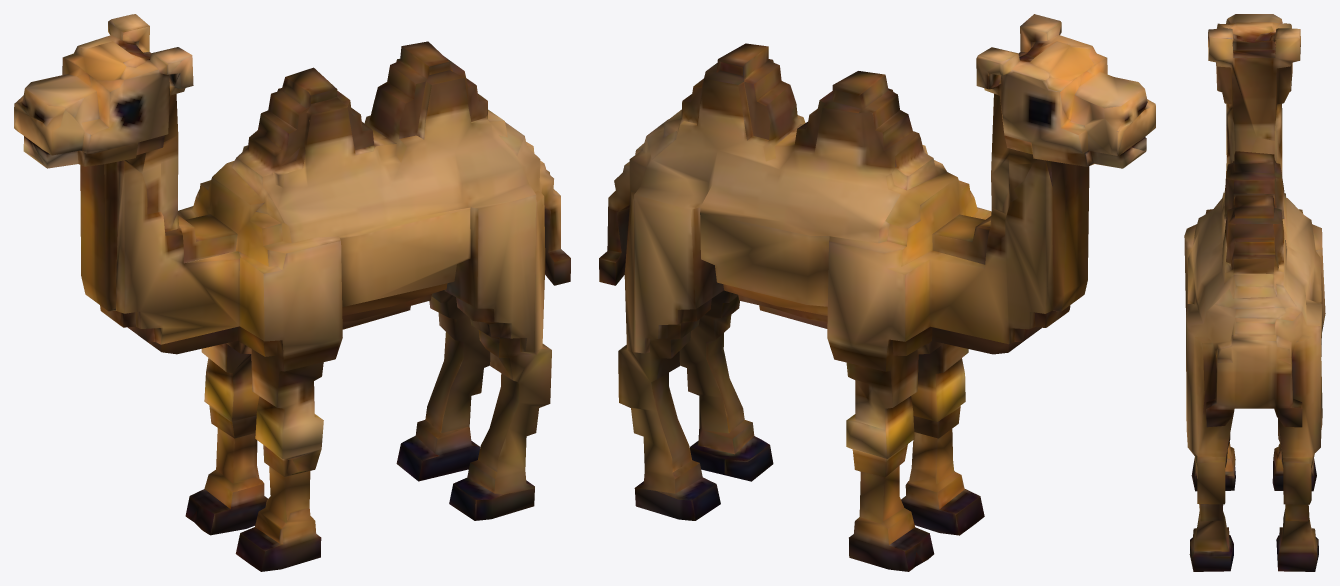
The model's file is camel.glb.
3 renders of one model, left to right at view 1: azimuth 30°, elevation 25°; view 2: azimuth 150°, elevation 25°; view 3: azimuth 270°, elevation 25°, orthographic. The views are drawn at different scales.
Visible parts, largest first — view 1: material.001; view 2: material.001; view 3: material.001.
Part boxes in pixels (x1,y1,x2,y2): material.001: [14, 14, 570, 571]; material.001: [599, 14, 1155, 571]; material.001: [1184, 14, 1325, 571].
Bounding box in the file's own units: 0.9102 × 0.9004 × 0.2808.
1 material, 1 textured.
